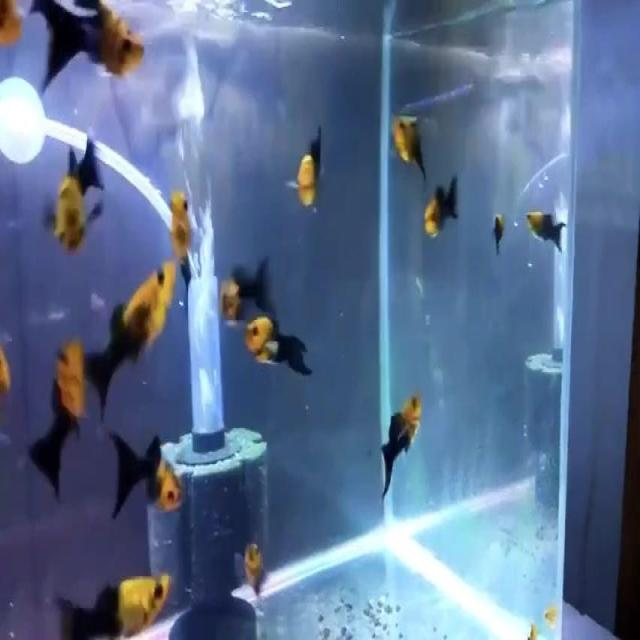PlatyFish: (74, 246, 178, 434), (24, 0, 148, 115), (42, 553, 182, 640)
